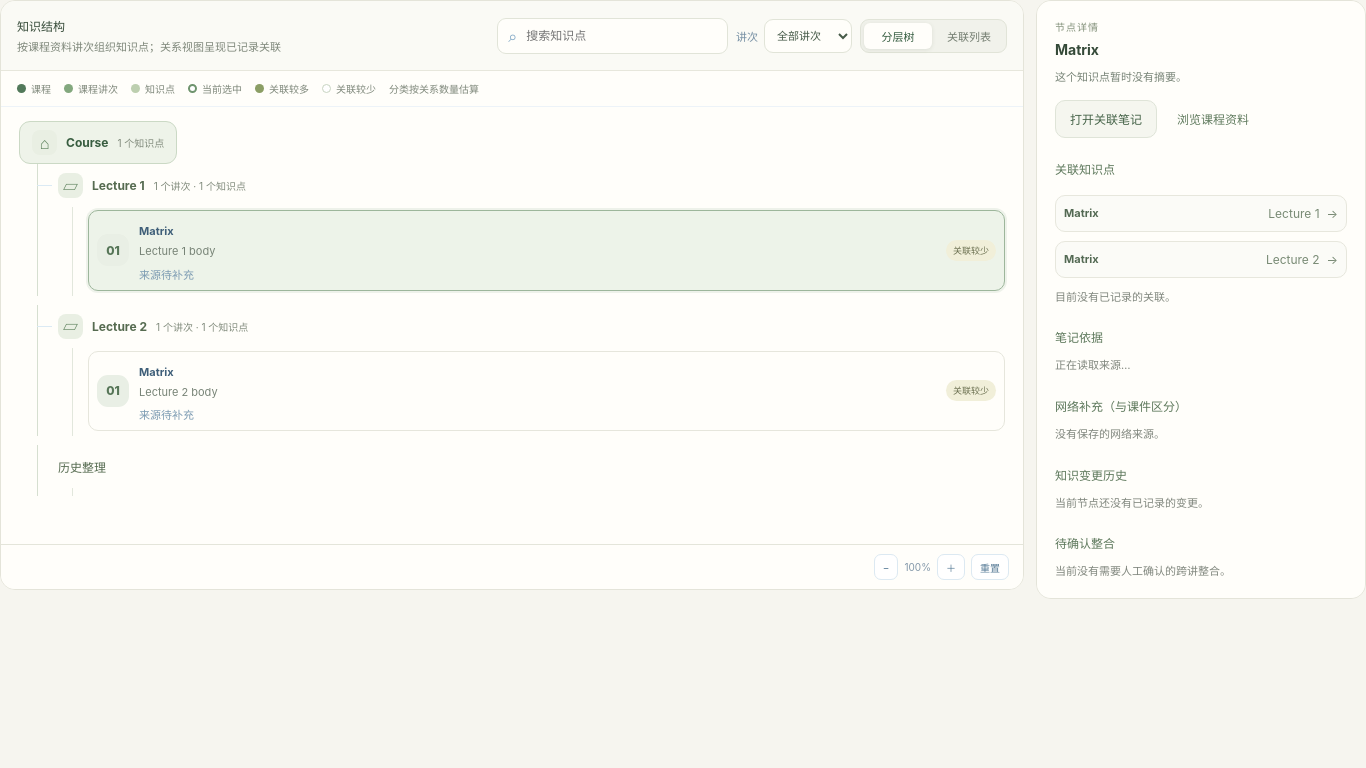
it: lecture filtering hides other occurrences of a shared concept
This screenshot has width=1366, height=768.
Select "Lecture 2" in the dropdown at x=808, y=36, box [764,18,852,52]
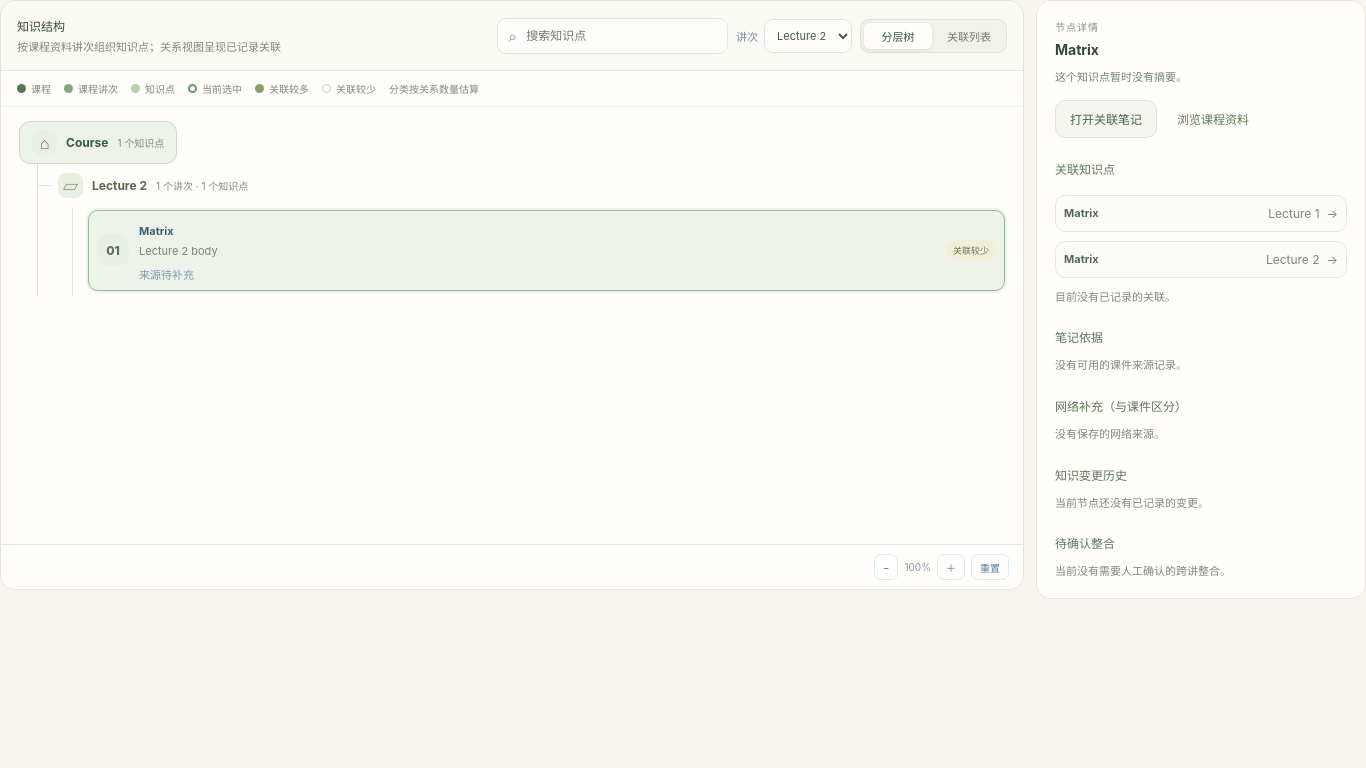
Now the number of list items "▱ Lecture 2 1 个讲次 · 1 个知识点" is 2, box [58,173,248,198]; [88,210,1005,291]
